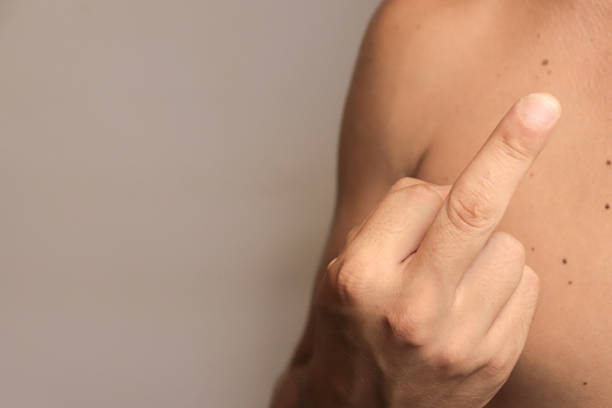insulting_gesture: (321, 92, 560, 408)
